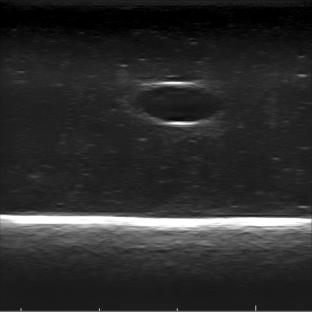vessel: (129, 81, 226, 128)
